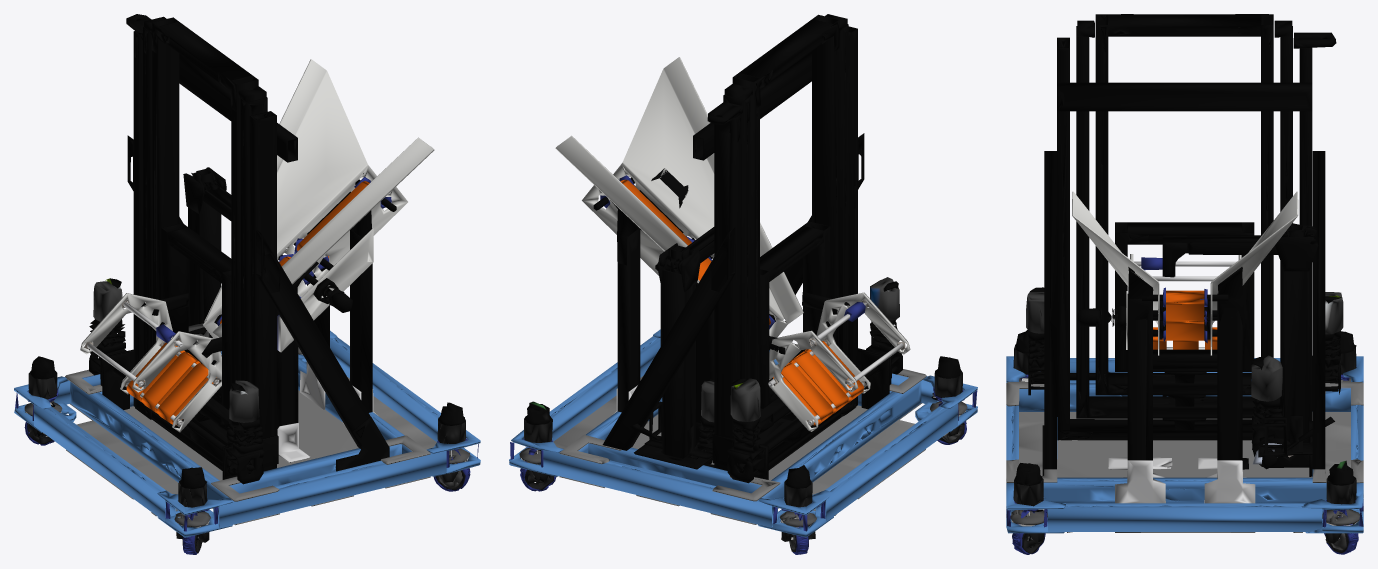
The picture shows the model from 3 angles, left to right: view 1: azimuth 30°, elevation 25°; view 2: azimuth 150°, elevation 25°; view 3: azimuth 270°, elevation 25°; orthographic projection. The views are drawn at different scales.
Size of the model in its own units: 28.08 by 38.5 by 28.01.
